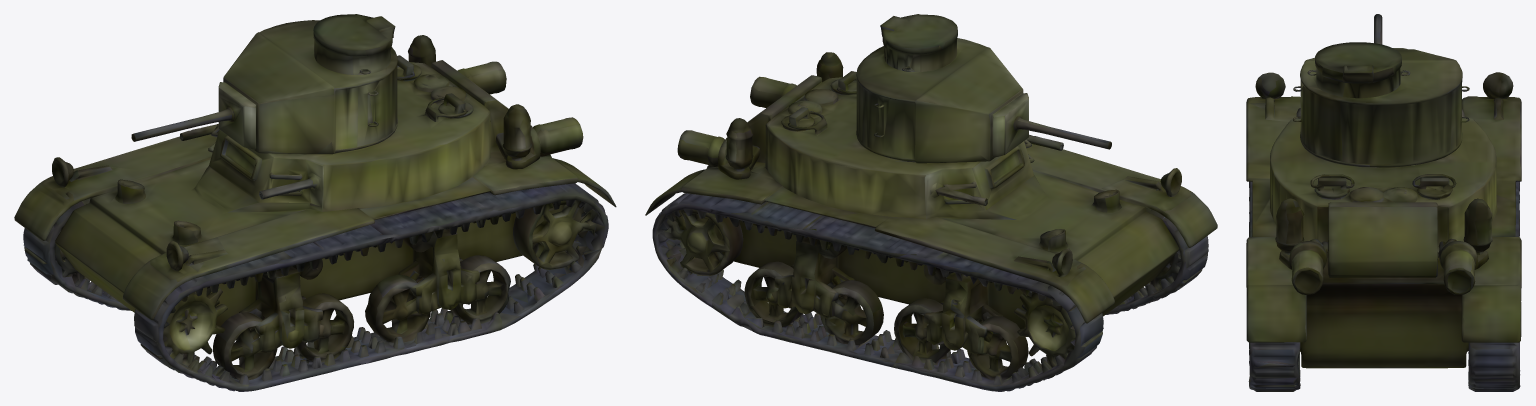
File: m2l_opt.glb
3 views of the same model, side by side, from view 1: azimuth 30°, elevation 25°; view 2: azimuth 150°, elevation 25°; view 3: azimuth 270°, elevation 25° (orthographic). The views are drawn at different scales.
Parts seen in each view (by area): view 1: node_0; view 2: node_0; view 3: node_0.
Boxes of the visible parts, left/top/right/bottom form: node_0: left=14, top=14, right=616, bottom=391; node_0: left=645, top=14, right=1217, bottom=391; node_0: left=1246, top=14, right=1521, bottom=391.
Size of the model in its own units: 1.06 by 0.6219 by 0.5444.
Materials: 1 (1 with a texture image).
